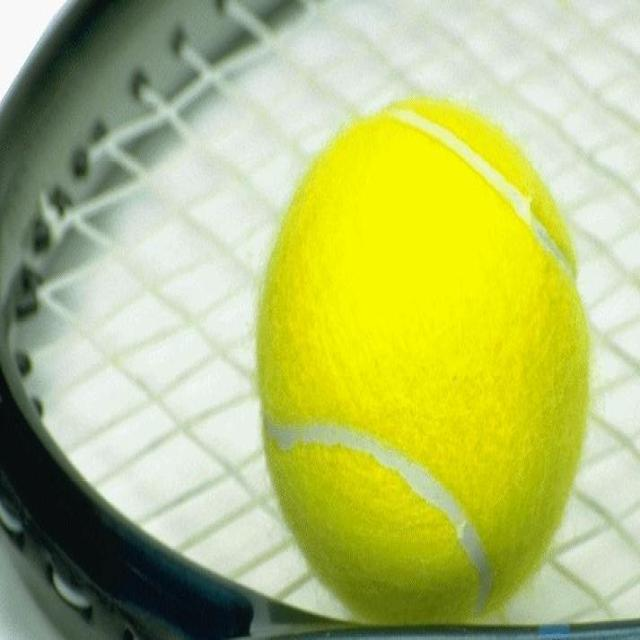Tennis Ball: (253, 94, 593, 630)
